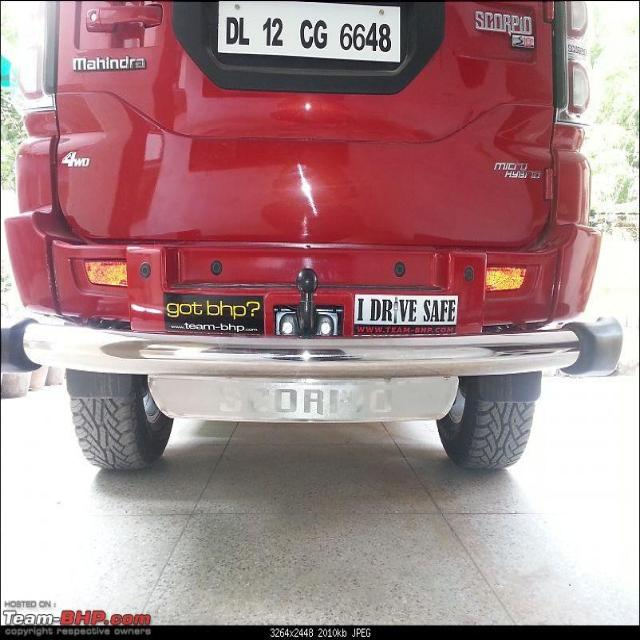number_plate: (218, 1, 400, 60)
